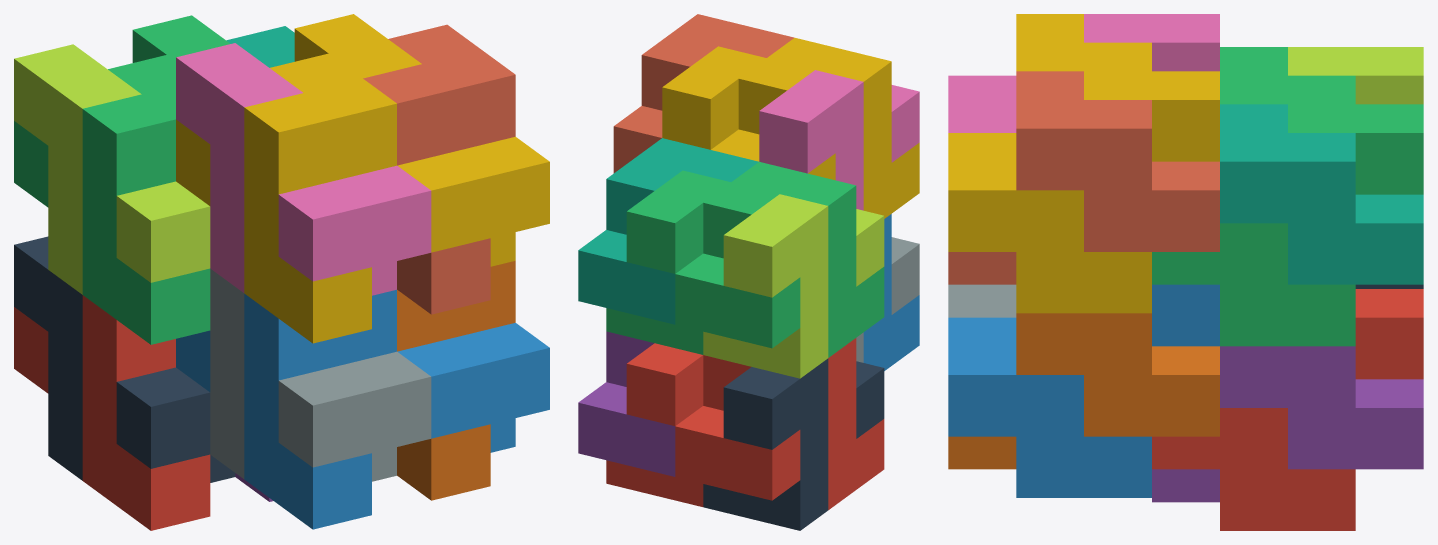
File: tiling.obj
3 renders of one model, left to right at view 1: azimuth 30°, elevation 25°; view 2: azimuth 150°, elevation 25°; view 3: azimuth 270°, elevation 25°, orthographic. The views are drawn at different scales.
Parts seen in each view (by area): view 1: copy_1_domain_4, copy_2_domain_4, copy_1_domain_3, copy_2_domain_2, copy_2_domain_3, copy_1_domain_2, copy_1_domain_8, copy_2_domain_1, copy_1_domain_1, copy_2_domain_8, copy_2_domain_6, copy_1_domain_6 (+2 smaller); view 2: copy_1_domain_3, copy_2_domain_3, copy_1_domain_1, copy_2_domain_1, copy_1_domain_4, copy_1_domain_7, copy_2_domain_4, copy_2_domain_7, copy_1_domain_8, copy_2_domain_5, copy_1_domain_5, copy_2_domain_8 (+2 smaller); view 3: copy_2_domain_8, copy_1_domain_8, copy_2_domain_6, copy_1_domain_7, copy_2_domain_7, copy_1_domain_6, copy_2_domain_5, copy_1_domain_5, copy_2_domain_4, copy_1_domain_3, copy_1_domain_4, copy_2_domain_3 (+1 smaller).
Boxes of the visible parts, x1,y1,x2,y2 form: copy_1_domain_4: [176, 53, 396, 343]; copy_2_domain_4: [176, 43, 431, 295]; copy_1_domain_3: [14, 55, 210, 344]; copy_2_domain_2: [210, 269, 431, 481]; copy_2_domain_3: [14, 44, 210, 294]; copy_1_domain_2: [176, 289, 396, 529]; copy_1_domain_8: [363, 24, 515, 314]; copy_2_domain_1: [14, 236, 235, 482]; copy_1_domain_1: [14, 295, 210, 530]; copy_2_domain_8: [294, 14, 549, 266]; copy_2_domain_6: [397, 323, 549, 452]; copy_1_domain_6: [397, 261, 515, 500]; copy_1_domain_3: [675, 161, 884, 357]; copy_2_domain_3: [703, 194, 884, 378]; copy_1_domain_1: [675, 338, 884, 509]; copy_2_domain_1: [703, 358, 884, 530]; copy_1_domain_4: [711, 38, 919, 218]; copy_1_domain_7: [578, 138, 758, 324]; copy_2_domain_4: [759, 70, 919, 210]; copy_2_domain_7: [606, 170, 730, 354]; copy_1_domain_8: [613, 14, 794, 173]; copy_2_domain_5: [606, 343, 703, 506]; copy_1_domain_5: [578, 331, 675, 476]; copy_2_domain_8: [662, 46, 766, 149]; copy_2_domain_8: [948, 71, 1219, 313]; copy_1_domain_8: [948, 71, 1219, 284]; copy_2_domain_6: [948, 284, 1219, 497]; copy_1_domain_7: [1220, 104, 1423, 284]; copy_2_domain_7: [1152, 104, 1423, 346]; copy_1_domain_6: [948, 313, 1219, 469]; copy_2_domain_5: [1152, 289, 1423, 530]; copy_1_domain_5: [1152, 346, 1423, 502]; copy_2_domain_4: [948, 14, 1219, 132]; copy_1_domain_3: [1220, 47, 1355, 104]; copy_1_domain_4: [1016, 14, 1151, 71]; copy_2_domain_3: [1288, 47, 1423, 104].
Size of the model in its own units: 5 by 7 by 7.
